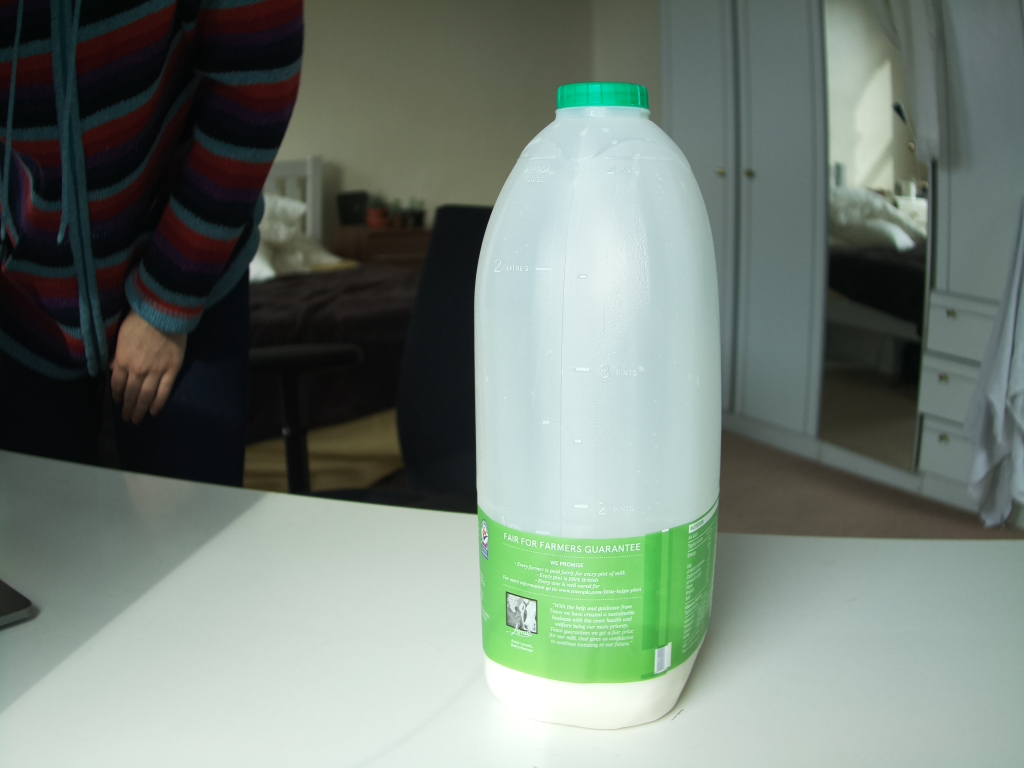milk: (463, 73, 724, 738)
